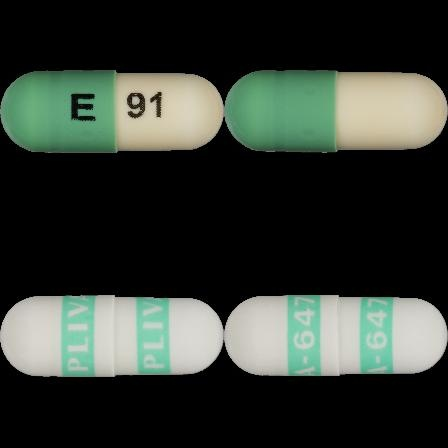51655-100: (0, 0, 224, 224)
